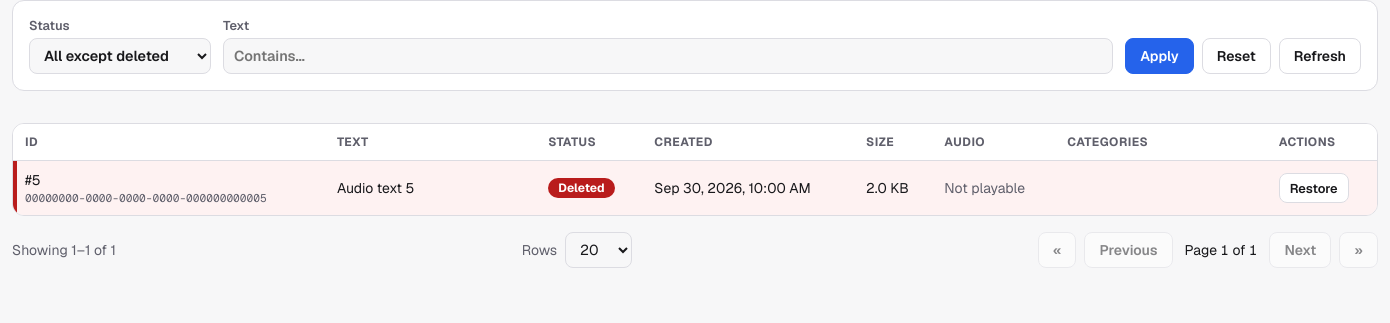
Test case: AudioLog › shows status change errors
Click the button named "Restore audio #5".
click(1314, 188)  # box [1279,173,1349,203]
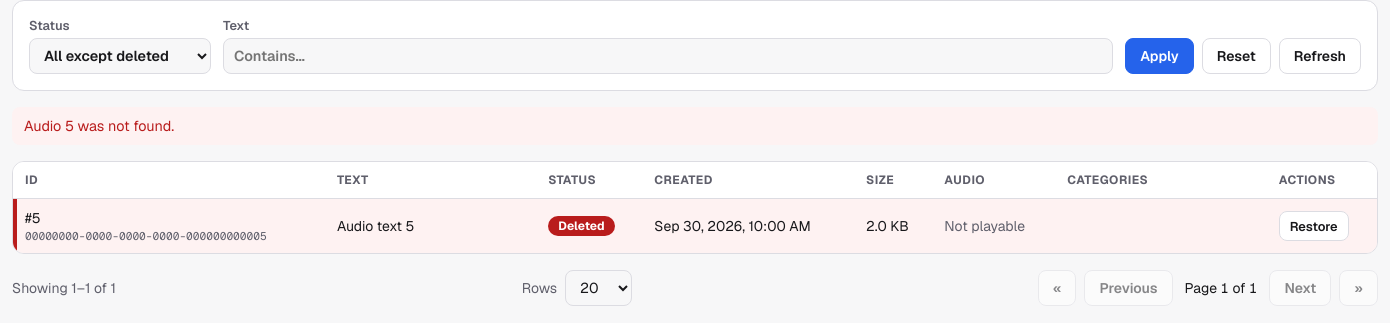
Expected: the message reads "Audio 5 was not found.", [24,117,174,135]
